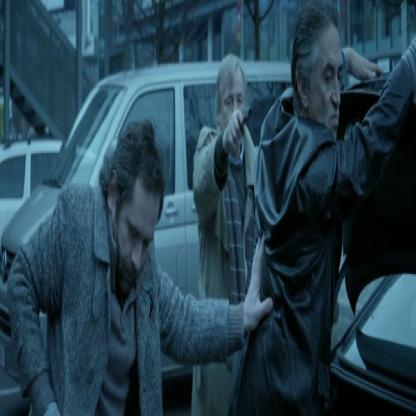Guns: (234, 98, 252, 146)
